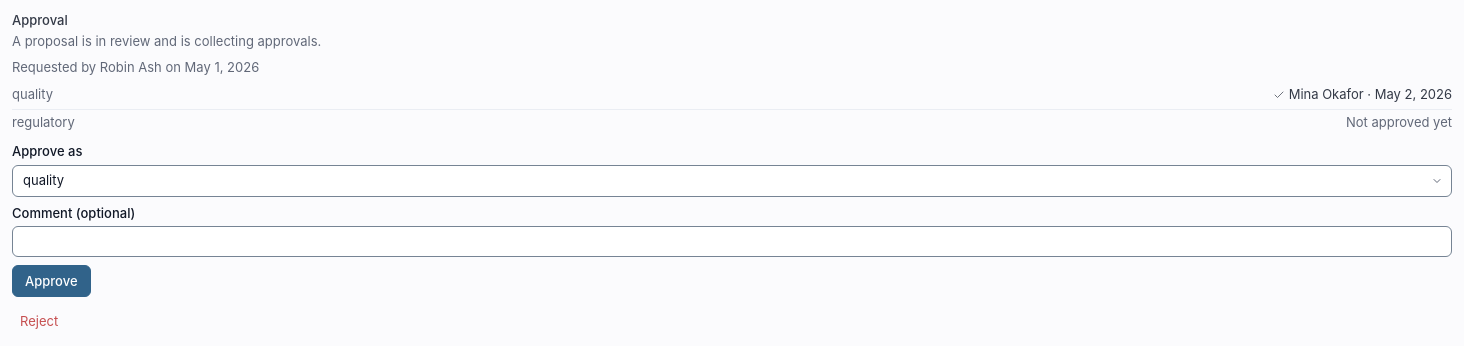
Test: governed sign-off section › reports a final approval that froze the article as done, from the re-read page
Expected: the list item with test id "governance-vote-quality" is shown, [12,86,1452,102]
Select "regulatory" in the dropdown with test id "governance-role": (732, 181) [12,165,1452,197]
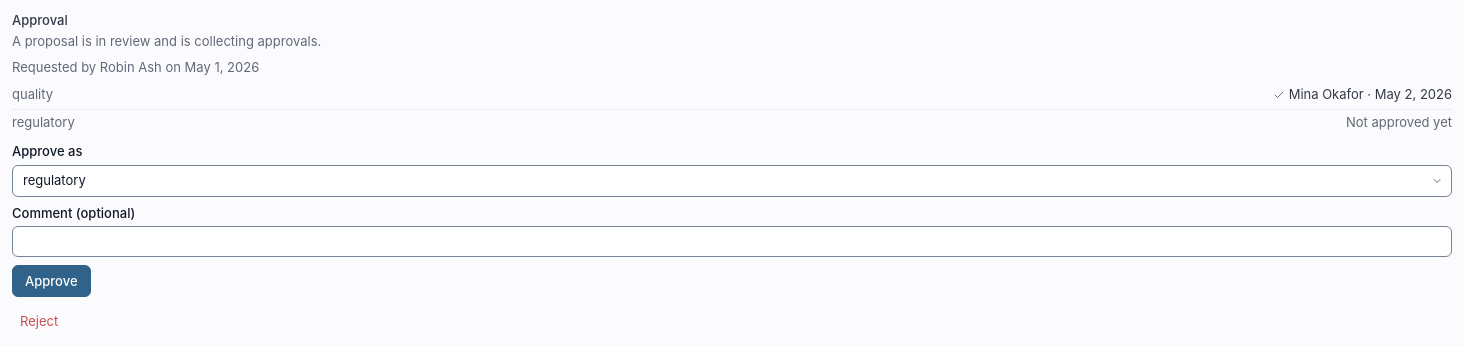
Click the button with test id "governance-approve-btn": click(51, 281) [12,265,90,297]
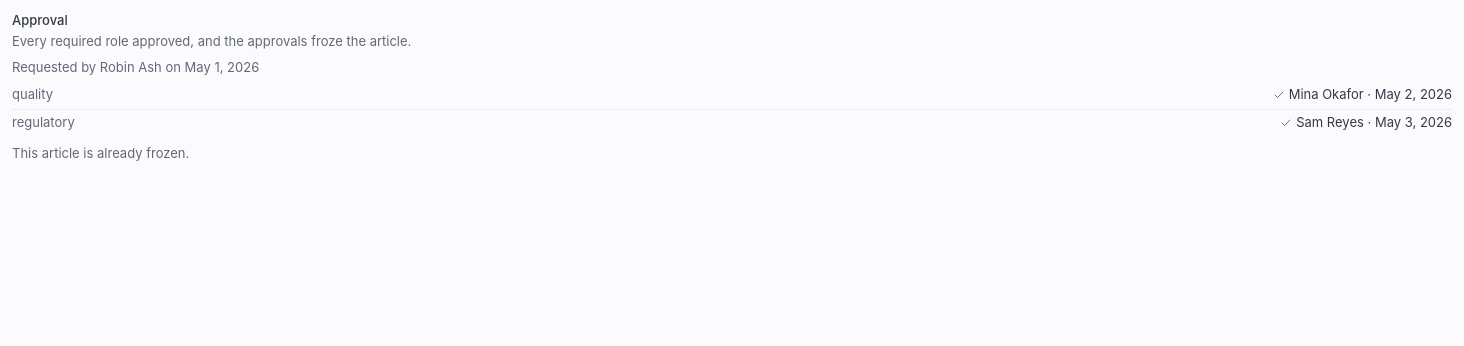
Result: the text with test id "governance-status" shows "froze the article" at [12,33,411,49]
Result: the list item with test id "governance-vote-regulatory" shows "Sam Reyes" at [1296,114,1364,130]
Result: the button with test id "governance-approve-btn" is gone
